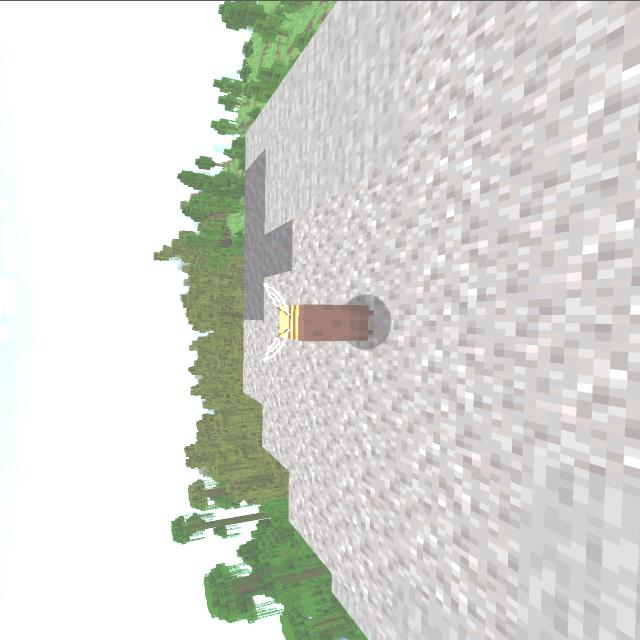bee: (246, 276, 388, 366)
